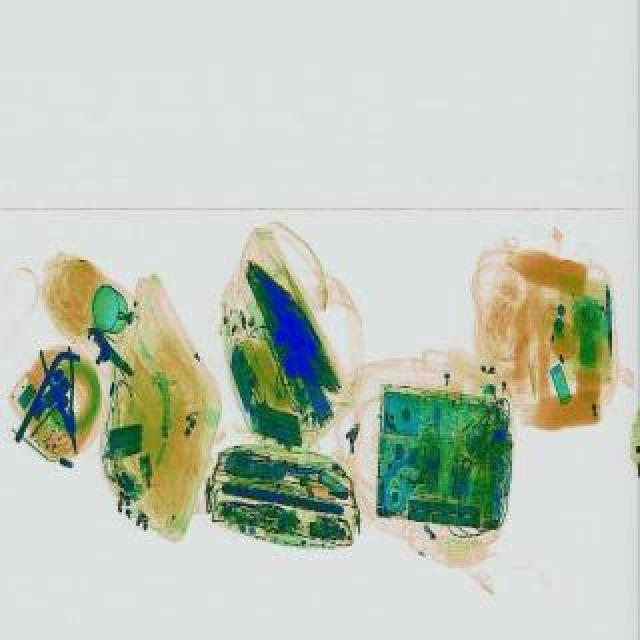wrench: (38, 346, 94, 458)
